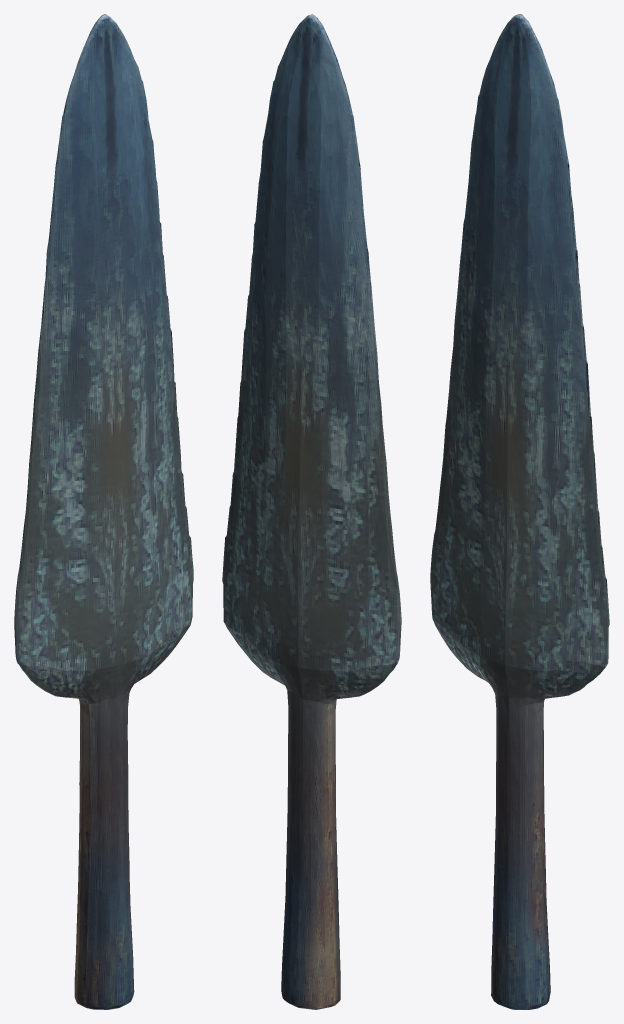
File: knife.glb
The picture shows the model from 3 angles, left to right: view 1: azimuth 30°, elevation 25°; view 2: azimuth 150°, elevation 25°; view 3: azimuth 330°, elevation 25°; orthographic projection.
Parts seen in each view (by area): view 1: world; view 2: world; view 3: world.
Boxes of the visible parts, x1,y1,x2,y2 form: world: (14, 14, 193, 1009); world: (222, 14, 401, 1009); world: (430, 14, 609, 1009).
Bounding box in the file's own units: 0.1893 × 1 × 0.052.
1 material, 1 textured.
